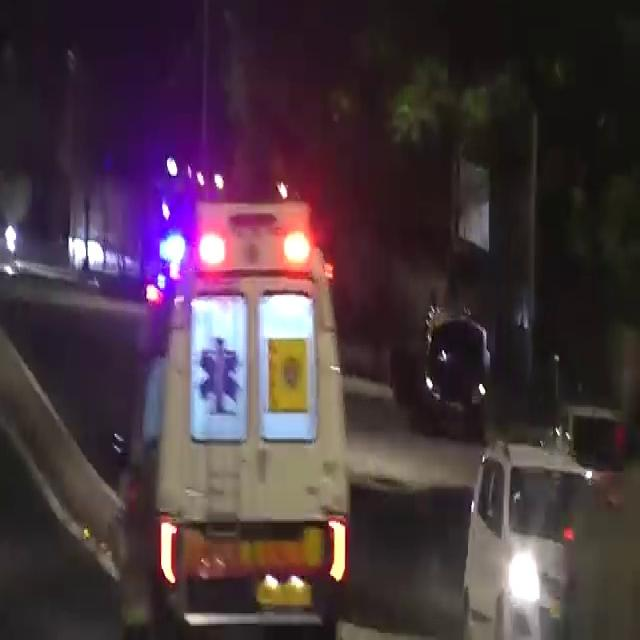ambulance: (113, 200, 368, 597)
